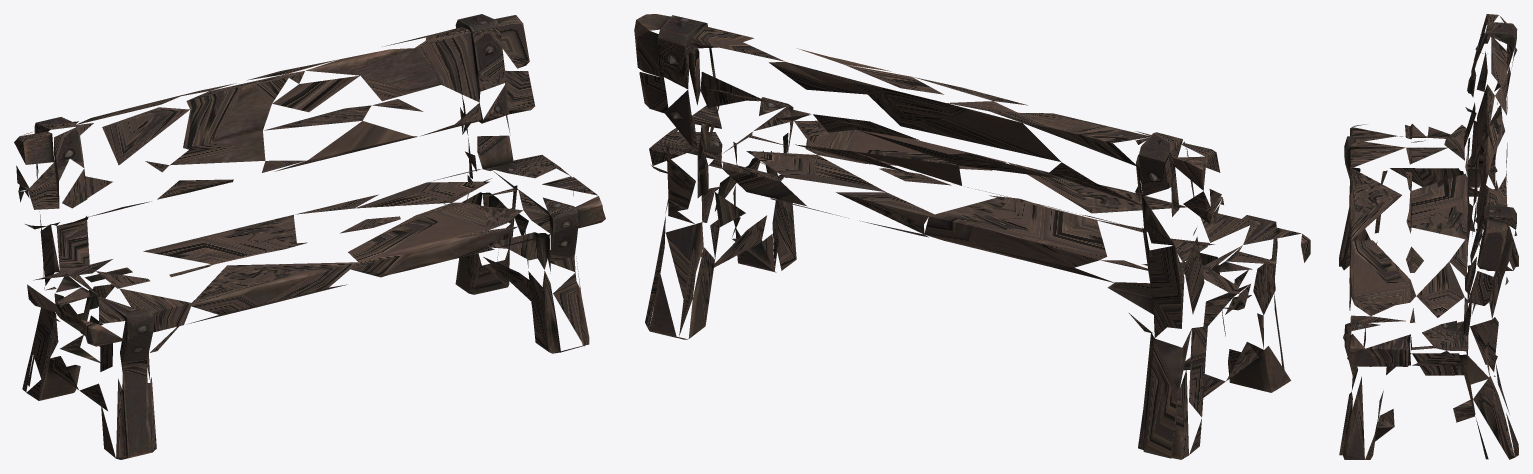
File: prp_bench_a_LOD1.glb
3 views of the same model, side by side, from view 1: azimuth 30°, elevation 25°; view 2: azimuth 150°, elevation 25°; view 3: azimuth 270°, elevation 25° (orthographic). The views are drawn at different scales.
Parts seen in each view (by area): view 1: geometry_0; view 2: geometry_0; view 3: geometry_0.
Part boxes in pixels (x1,y1,x2,y2): geometry_0: (14, 14, 605, 459); geometry_0: (634, 14, 1310, 459); geometry_0: (1339, 14, 1518, 459).
Bounding box in the file's own units: 1.8 × 0.9 × 0.6071.
Materials: 1 (1 with a texture image).
